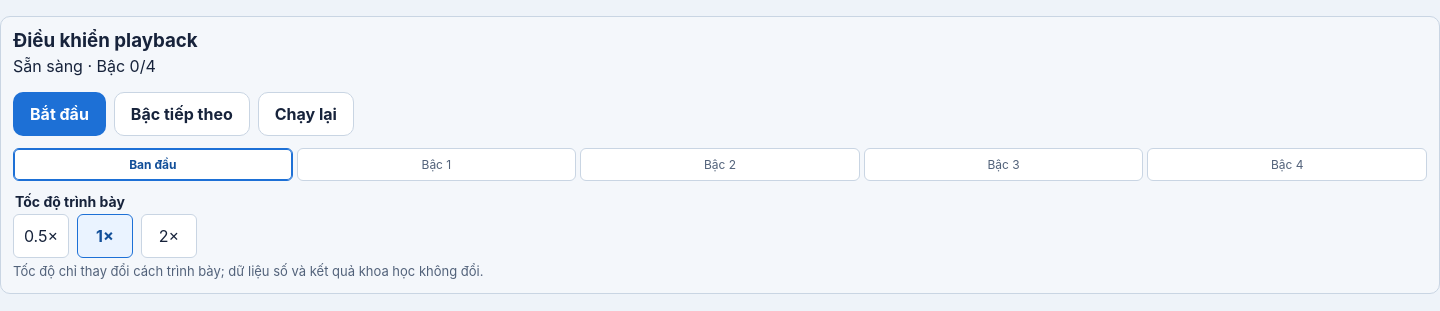
Test: PlaybackControls › uses a controlled timer and freezes it while paused
The image size is (1440, 311).
Click the button "Bắt đầu" at (59, 114), box [13,92,106,136]
Wait 700 ms
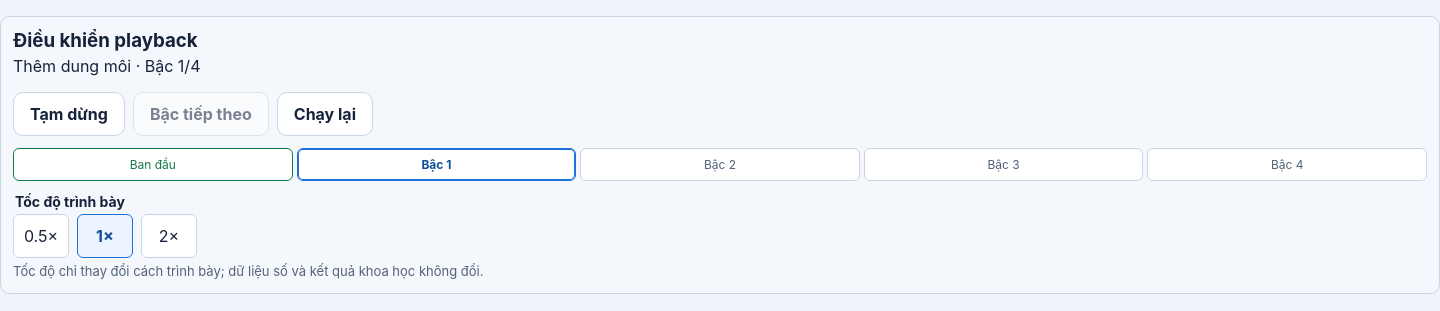
Expected: the message shows "Thêm dung môi", [13,56,131,76]
Click the button "Tạm dừng" at (69, 114), box [13,92,125,136]
Wait 2100 ms
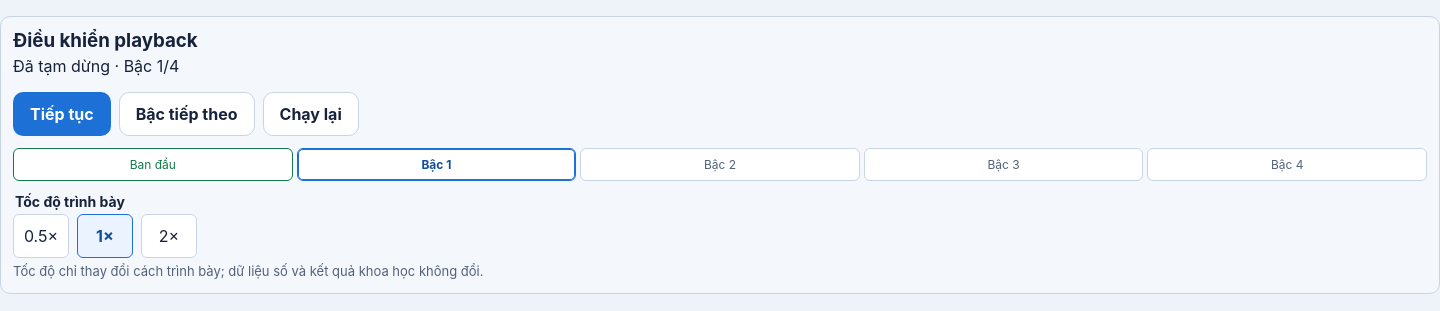
Expected: the message shows "Đã tạm dừng", [13,56,110,76]
